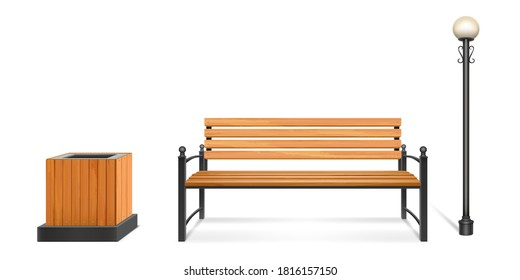Chair: (172, 113, 439, 246)
Lamp: (445, 15, 488, 241)
TrashBin: (31, 148, 147, 248)
